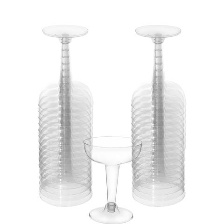glass: (124, 16, 205, 214), (33, 17, 96, 208), (75, 128, 151, 224)
